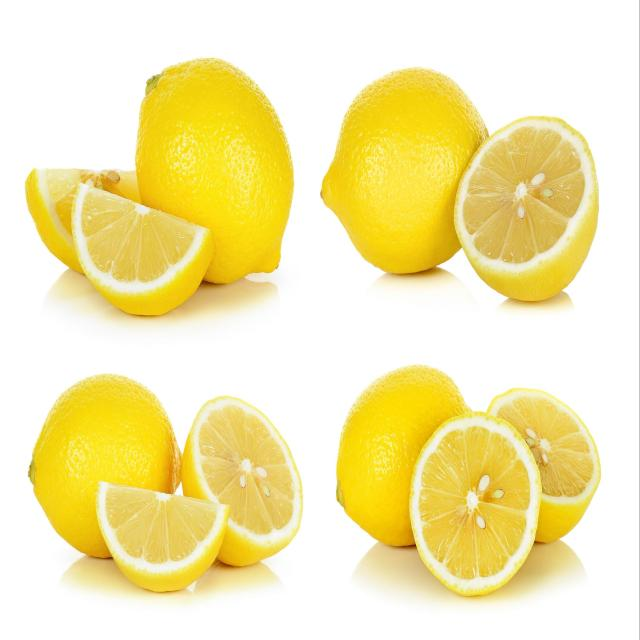lemon: (134, 55, 298, 288), (451, 110, 603, 306), (407, 408, 543, 602), (93, 478, 232, 596)
